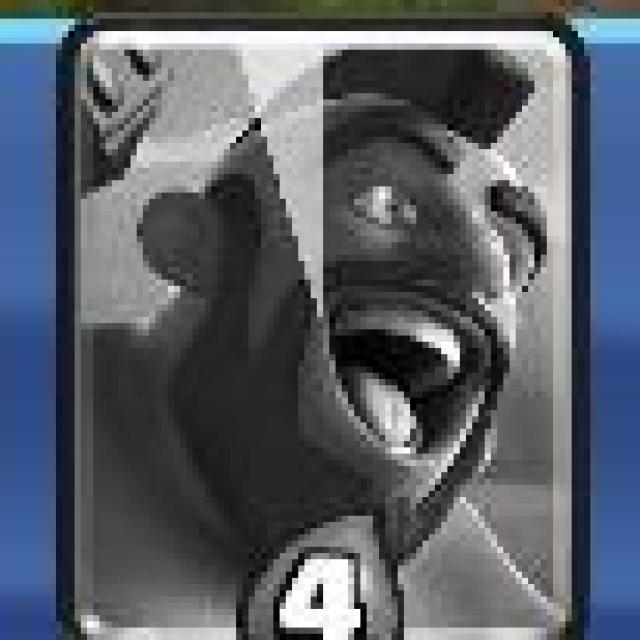Hog_Rider: (51, 8, 590, 640)
